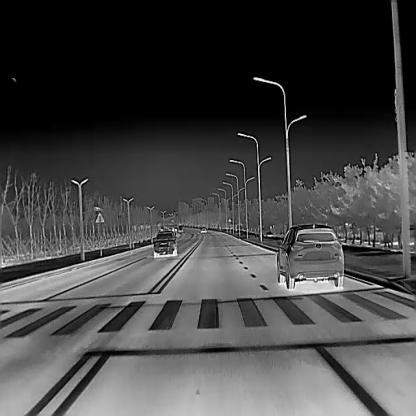car: (276, 221, 344, 289), (153, 229, 177, 257), (173, 222, 183, 232), (199, 226, 206, 233)
